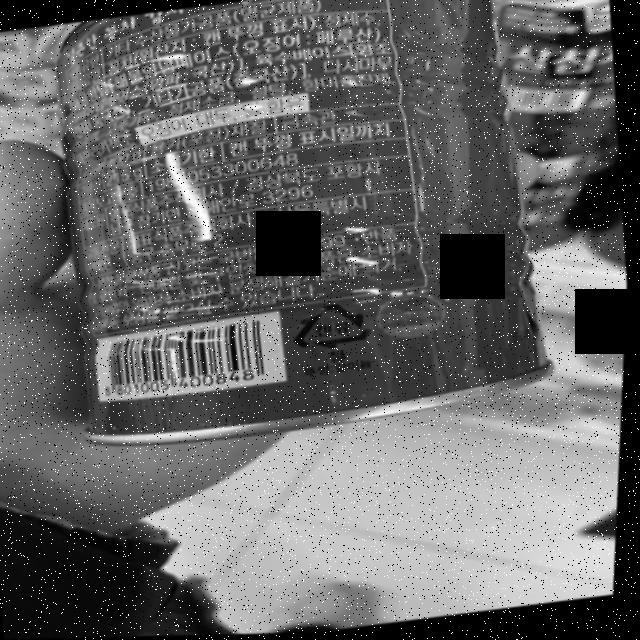Can: (290, 300, 377, 357)
